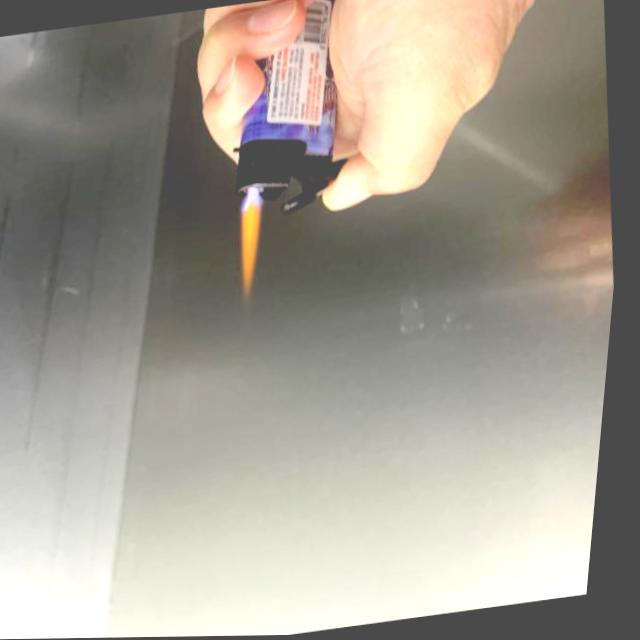helmet: (231, 190, 282, 298)
